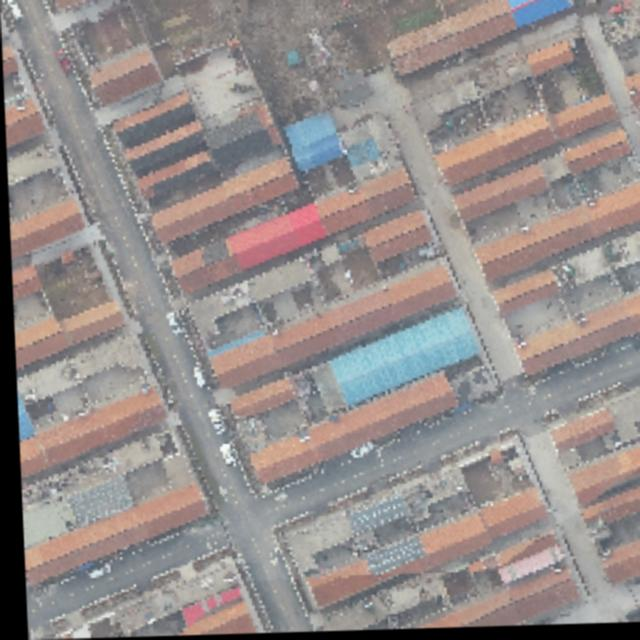Batiment: (248, 376, 452, 484), (20, 485, 200, 582), (302, 516, 483, 606), (435, 99, 613, 187), (477, 187, 640, 282), (16, 390, 162, 477), (112, 94, 217, 210), (153, 160, 295, 242), (514, 296, 640, 376), (416, 573, 573, 630), (12, 302, 120, 368), (316, 172, 411, 236), (227, 206, 322, 269), (454, 168, 544, 220), (564, 447, 640, 506), (8, 200, 79, 259), (90, 49, 160, 106), (169, 243, 240, 295), (362, 214, 429, 264), (476, 491, 542, 540), (563, 134, 627, 176), (493, 273, 554, 316), (174, 602, 250, 636), (550, 413, 610, 452), (580, 491, 640, 528), (598, 541, 640, 588), (4, 99, 43, 147), (491, 536, 550, 567), (9, 265, 39, 300), (3, 58, 18, 77)
